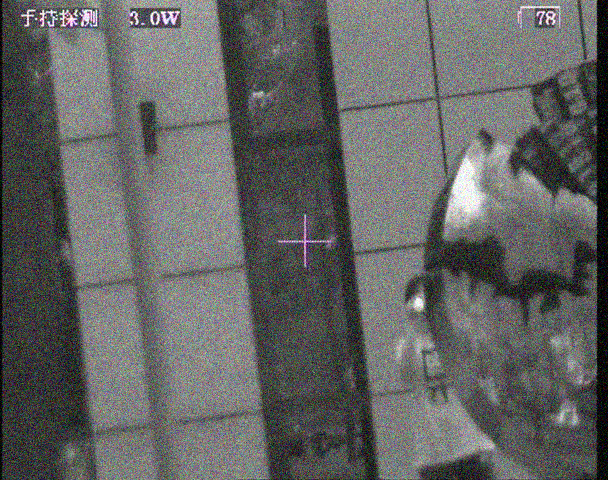my: (412, 297, 424, 311)
